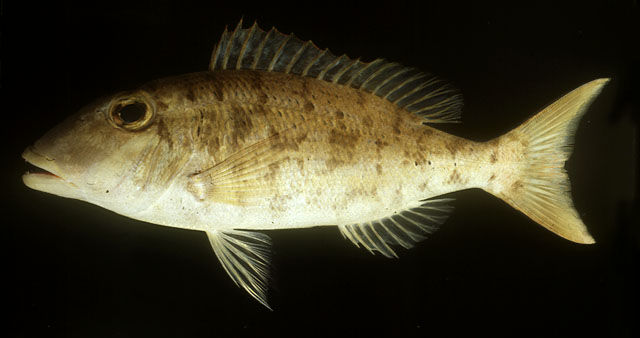fish: (21, 21, 612, 313)
